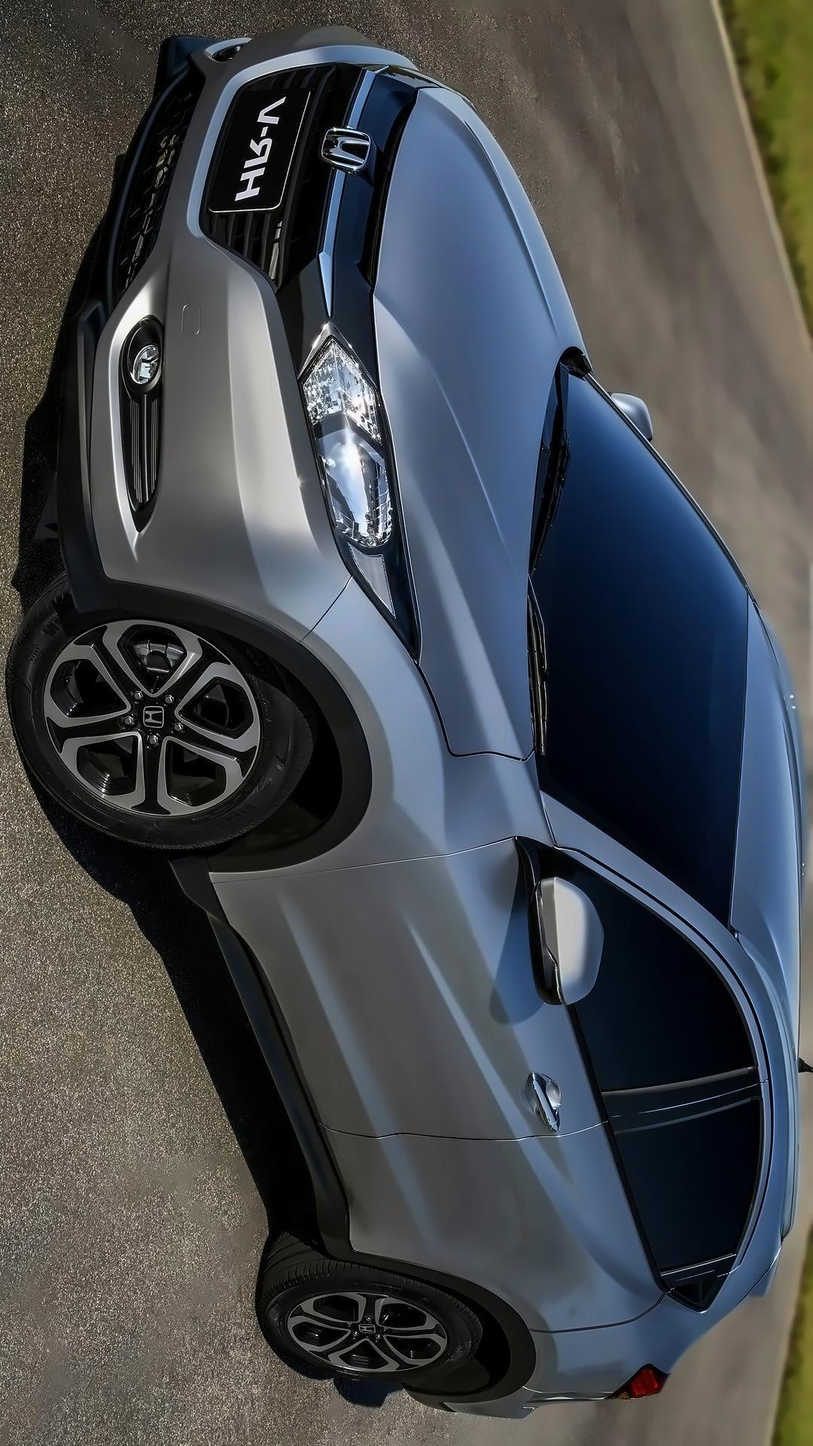Car hood: (369, 63, 583, 753)
Fender - -F-L-: (179, 563, 568, 893)
Fender - -R-L-: (477, 1291, 710, 1393)
Front bumper: (48, 15, 352, 640)
Passenger-s door - -F-L-: (214, 844, 794, 1133)
Passenger-s door - -R-L-: (326, 1075, 790, 1332)
Rear bumper: (399, 1369, 625, 1446)
Rear light - -L-: (276, 312, 413, 563), (600, 1348, 682, 1416)
Side bumper - -L-: (153, 844, 361, 1259)
Side mirror - -L-: (507, 861, 621, 1016)
Side mirror - -R-: (580, 362, 680, 446)
